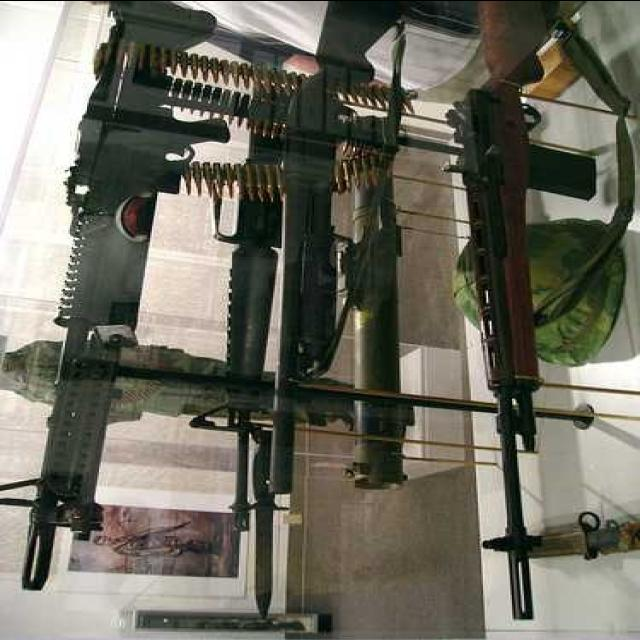heavyweapon: (3, 1, 255, 604), (234, 1, 468, 505), (484, 1, 612, 572)
